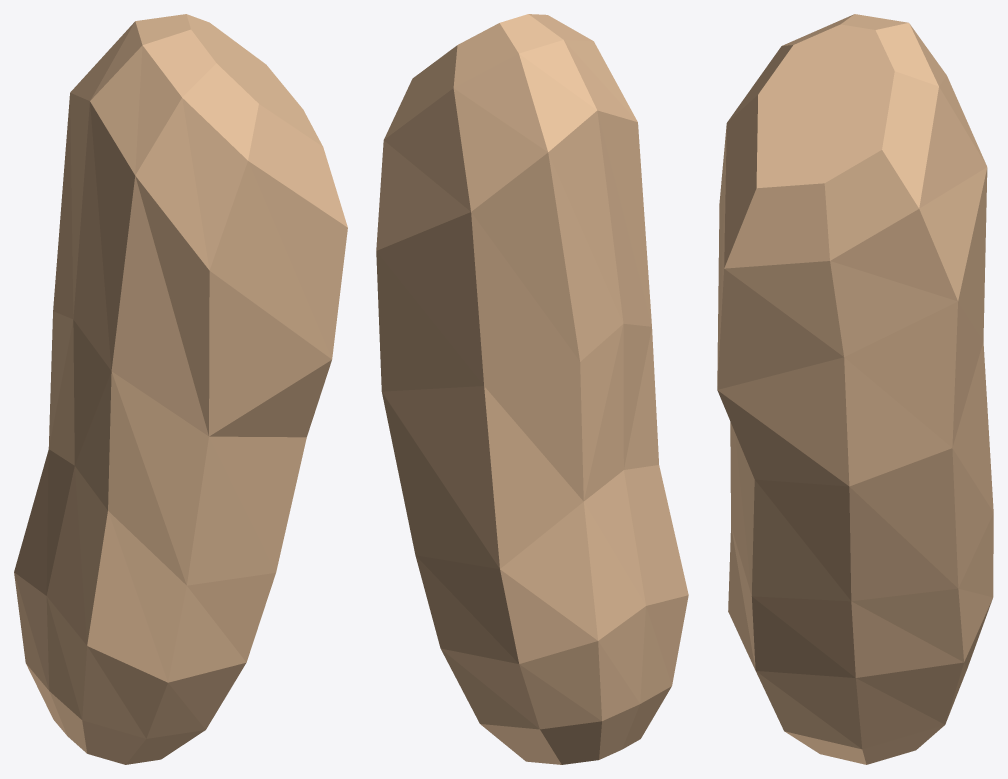
The model's file is RFing40_mesh.dae.
The picture shows the model from 3 angles, left to right: view 1: azimuth 30°, elevation 25°; view 2: azimuth 150°, elevation 25°; view 3: azimuth 270°, elevation 25°; orthographic projection. The views are drawn at different scales.
Visible parts, largest first — view 1: RFing40; view 2: RFing40; view 3: RFing40.
Boxes of the visible parts, bbox=[...] form: RFing40: bbox=[14, 14, 347, 764]; RFing40: bbox=[376, 14, 688, 764]; RFing40: bbox=[717, 14, 993, 764].
Bounding box in the file's own units: 0.0206 × 0.0558 × 0.0186.
